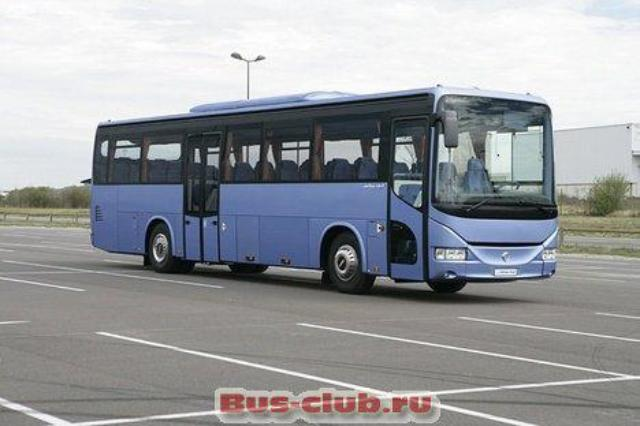bus: (85, 78, 565, 305)
